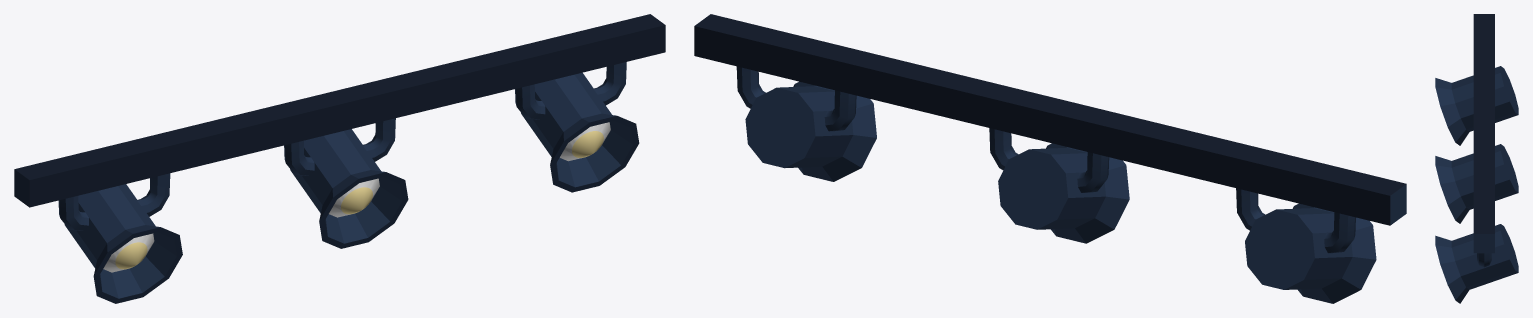
Rendered from Ceiling Light Model.fbx.
3 renders of one model, left to right at view 1: azimuth 30°, elevation 25°; view 2: azimuth 150°, elevation 25°; view 3: azimuth 270°, elevation 25°, orthographic. The views are drawn at different scales.
Parts seen in each view (by area): view 1: Ceiling_Light_Main; view 2: Ceiling_Light_Main; view 3: Ceiling_Light_Main.
Part boxes in pixels (x1,y1,x2,y2): Ceiling_Light_Main: [14, 14, 665, 303]; Ceiling_Light_Main: [694, 14, 1406, 303]; Ceiling_Light_Main: [1435, 14, 1518, 303].
Bounding box in the file's own units: 13.61 × 2.77 × 2.18.
1 material, 1 textured.
